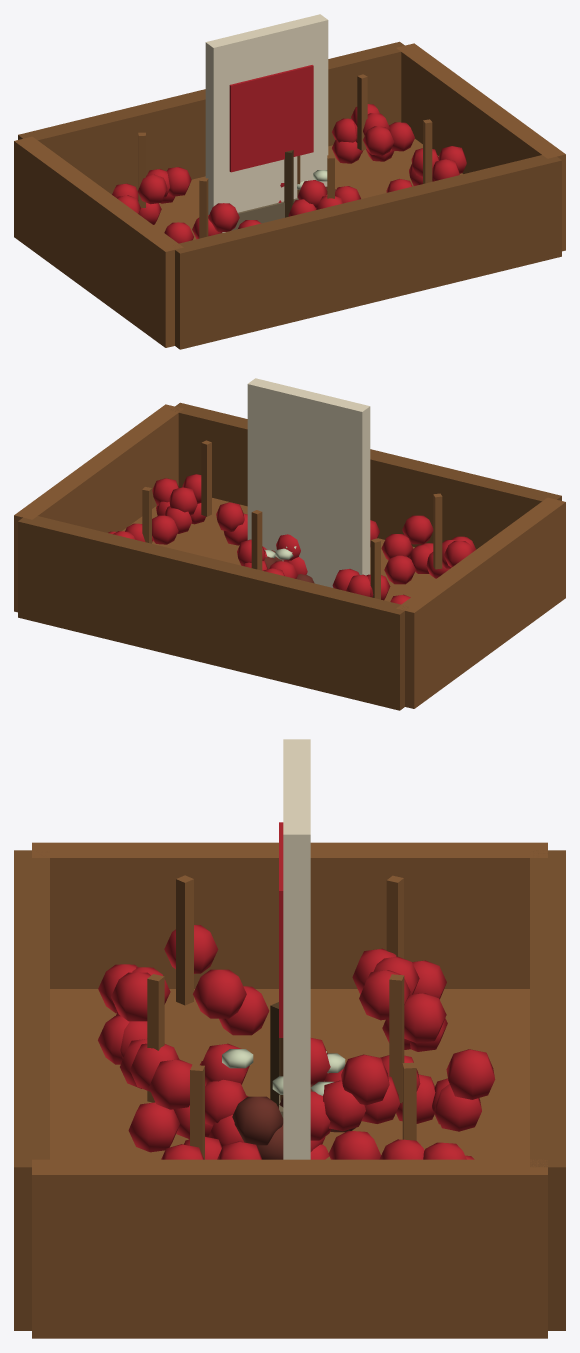
File: Crop_CoffeeCherry.fbx
3 views of the same model, one above another, from view 1: azimuth 30°, elevation 25°; view 2: azimuth 150°, elevation 25°; view 3: azimuth 270°, elevation 25° (orthographic). The views are drawn at different scales.
Parts seen in each view (by area): view 1: Crop_CoffeeCherry__Stack, Crop_CoffeeCherry__Seed, Crop_CoffeeCherry__Rotten; view 2: Crop_CoffeeCherry__Stack, Crop_CoffeeCherry__Seed, Crop_CoffeeCherry, Crop_CoffeeCherry__Rotten; view 3: Crop_CoffeeCherry__Stack, Crop_CoffeeCherry__Seed, Crop_CoffeeCherry__Rotten, Crop_CoffeeCherry.
Part boxes in pixels (box(x1,y1,x2,y2)): Crop_CoffeeCherry__Stack: box(14, 41, 565, 349); Crop_CoffeeCherry__Seed: box(205, 14, 328, 232); Crop_CoffeeCherry__Rotten: box(284, 150, 335, 217); Crop_CoffeeCherry__Stack: box(14, 402, 565, 710); Crop_CoffeeCherry__Seed: box(247, 378, 370, 587); Crop_CoffeeCherry: box(263, 546, 307, 578); Crop_CoffeeCherry__Rotten: box(264, 546, 314, 583); Crop_CoffeeCherry__Stack: box(14, 842, 565, 1338); Crop_CoffeeCherry__Seed: box(279, 739, 310, 1159); Crop_CoffeeCherry__Rotten: box(222, 1002, 361, 1159); Crop_CoffeeCherry: box(247, 1038, 343, 1159).
Size of the model in its own units: 0.1743 by 0.09 by 0.1224.
